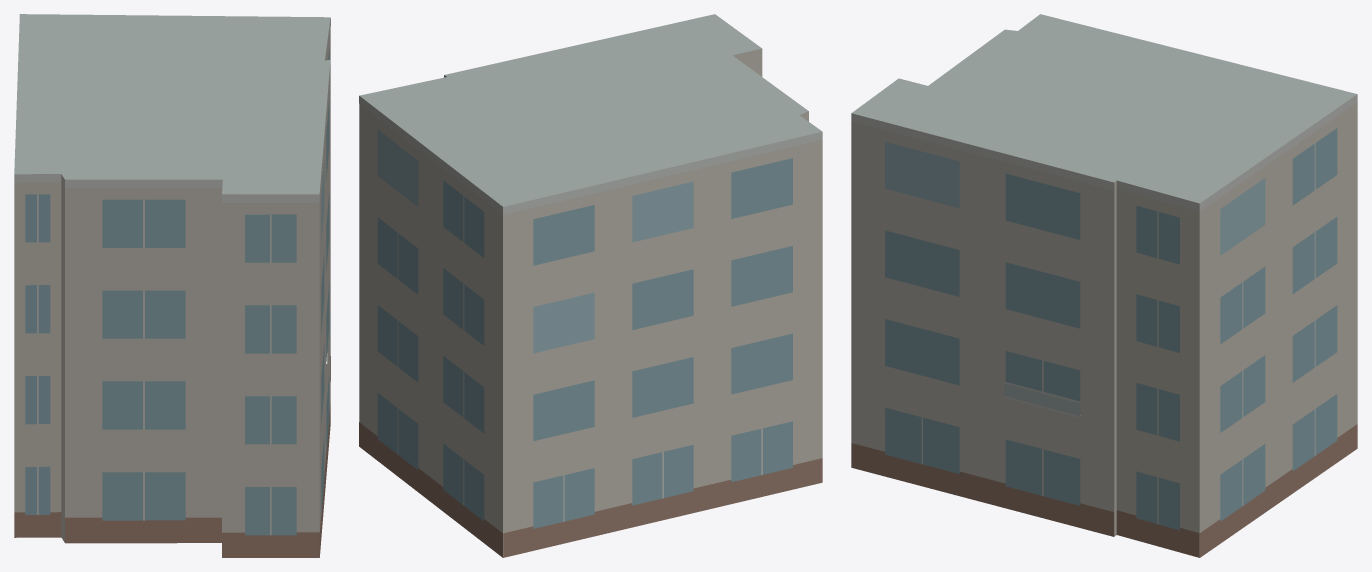
File: survey-upis-32757223.glb
3 views of the same model, side by side, from view 1: azimuth 30°, elevation 25°; view 2: azimuth 150°, elevation 25°; view 3: azimuth 270°, elevation 25° (orthographic). The views are drawn at different scales.
Visible parts, largest first — view 1: survey-upis-32757223.tmp; view 2: survey-upis-32757223.tmp; view 3: survey-upis-32757223.tmp.
Part boxes in pixels (x1,y1,x2,y2): survey-upis-32757223.tmp: (14, 14, 330, 557); survey-upis-32757223.tmp: (359, 14, 822, 557); survey-upis-32757223.tmp: (851, 14, 1357, 557).
Bounding box in the file's own units: 12.22 × 10.65 × 13.8.
